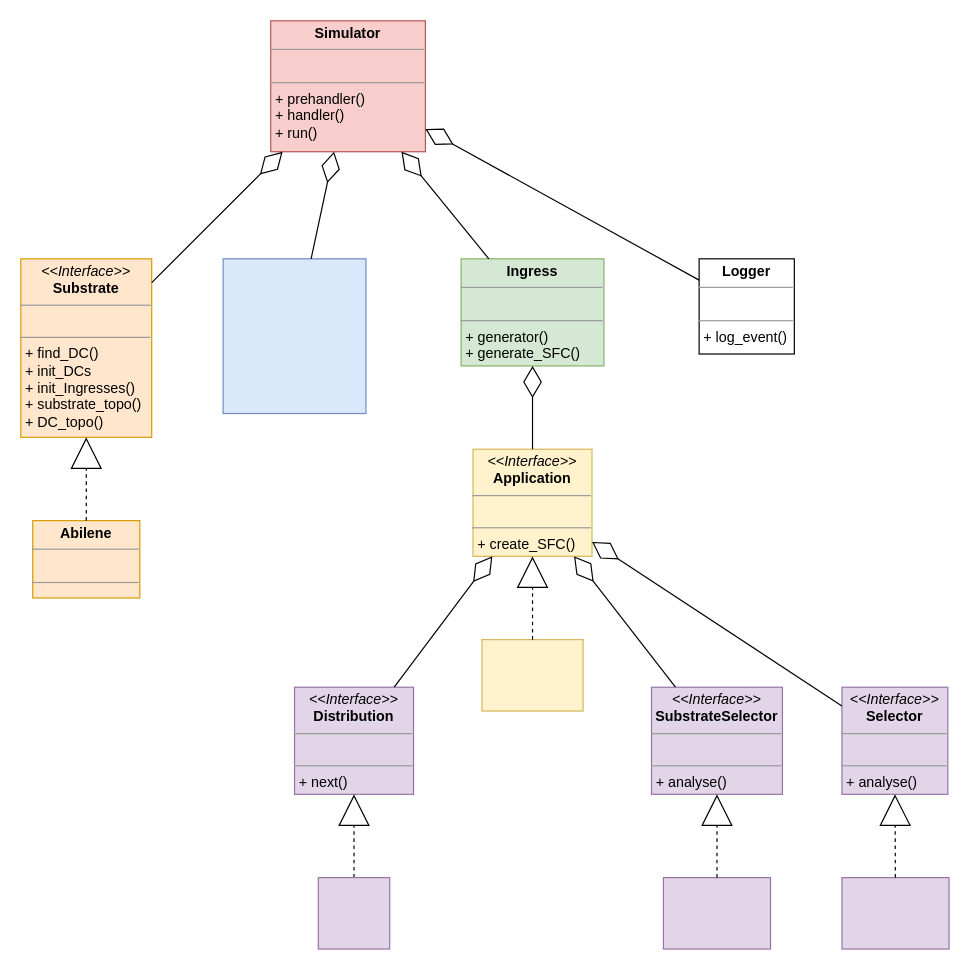
This 970x970 diagram has some shape labels left out. Each missing label, with the centre of its shape:
DataCentre + consider() + deployer() + release() + reset() +fakeDeploy(): point (294, 336)
DemoSelector: point (895, 912)
Poisson: point (353, 912)
ShortestPath: point (716, 912)
WaxmanApp: point (532, 674)
